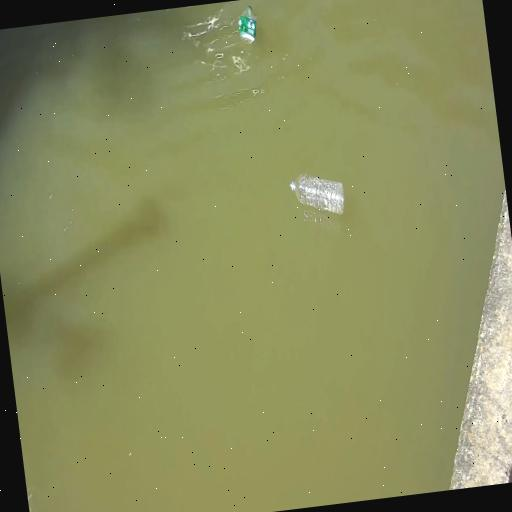plastic: (288, 167, 348, 224), (233, 3, 261, 49)
